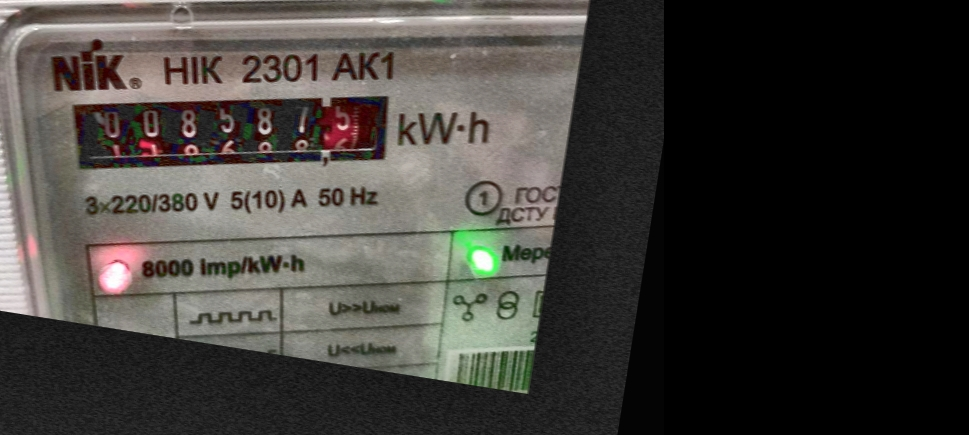0: (134, 103, 165, 140), (95, 104, 126, 140)
5: (211, 102, 239, 136), (327, 98, 354, 132)
6: (329, 133, 349, 152)
7: (287, 100, 314, 137)
8: (248, 101, 276, 138), (173, 105, 202, 140)
screen: (53, 45, 415, 220)
